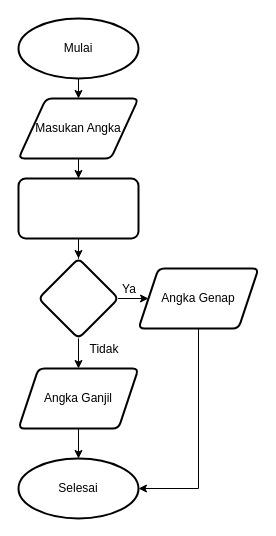
Some shapes in this 276 by 536 pixel diagram are drawn without their labels. The centre of each missing label's shape, as x and y in pixels:
"Apakah sisa bagi = 0" goes at (x=78, y=298).
"Bagi Bilangan dengan 2 menggunakan modulus" goes at (x=78, y=208).
